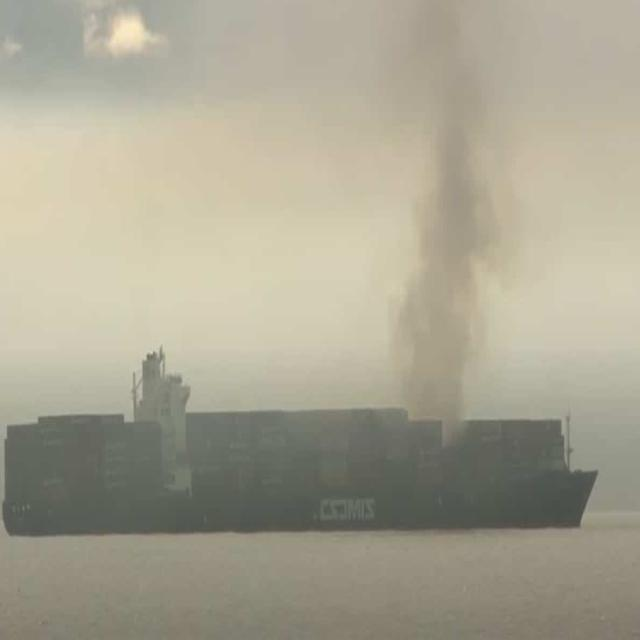cargoship: (2, 350, 590, 548)
